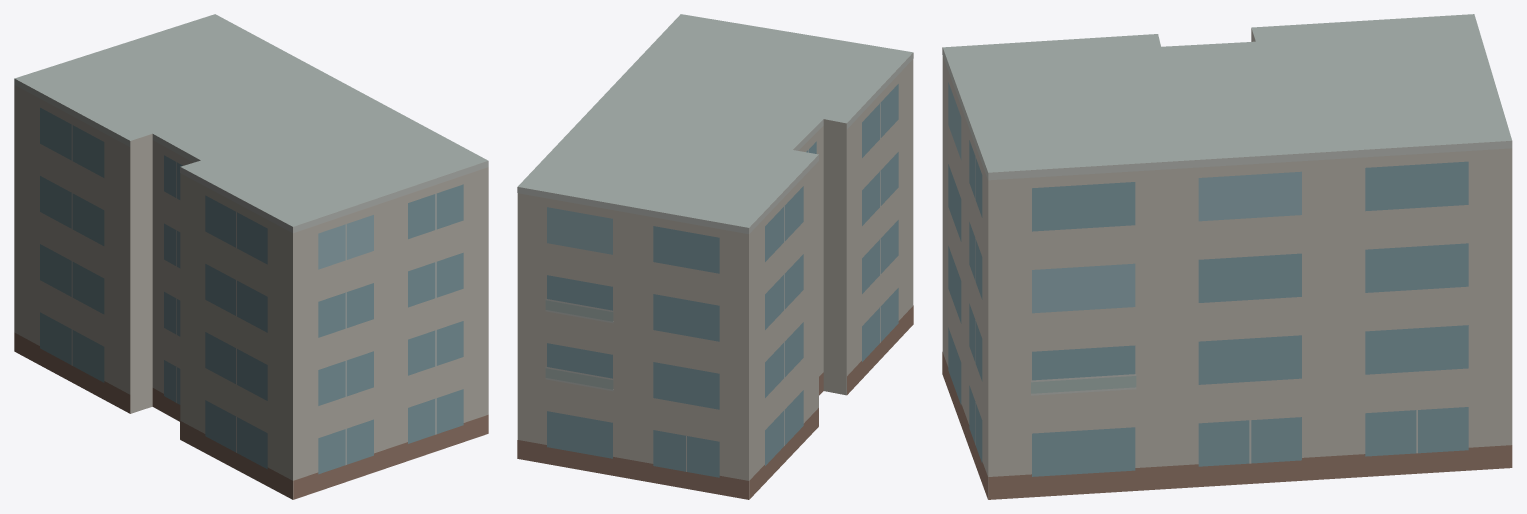
File: survey-upis-33040711.glb
The picture shows the model from 3 angles, left to right: view 1: azimuth 30°, elevation 25°; view 2: azimuth 150°, elevation 25°; view 3: azimuth 270°, elevation 25°; orthographic projection. The views are drawn at different scales.
Parts seen in each view (by area): view 1: survey-upis-33040711.tmp; view 2: survey-upis-33040711.tmp; view 3: survey-upis-33040711.tmp.
Boxes of the visible parts, <box> form: survey-upis-33040711.tmp: <box>14,14,488,499</box>; survey-upis-33040711.tmp: <box>517,14,913,499</box>; survey-upis-33040711.tmp: <box>942,14,1512,499</box>.
Bounding box in the file's own units: 10.93 × 10.5 × 16.58.
